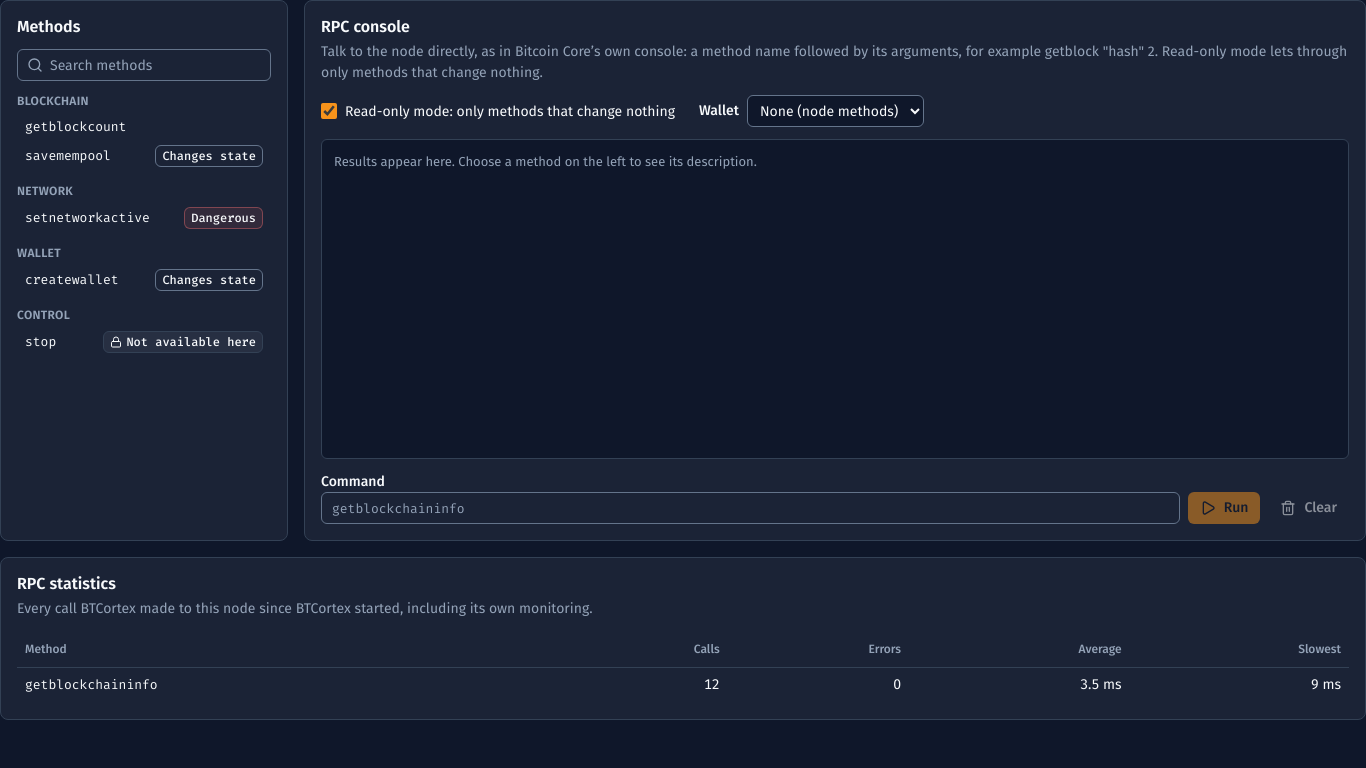
Test: RPC console › asks before dangerous methods and hides secret parameters
The image size is (1366, 768).
Expected: the element "Blockchain" is shown, left=17, top=93, right=271, bottom=170
Click the checkbox labelled "Read-only mode: only methods that change nothing" at (329, 110), box left=321, top=102, right=337, bottom=118
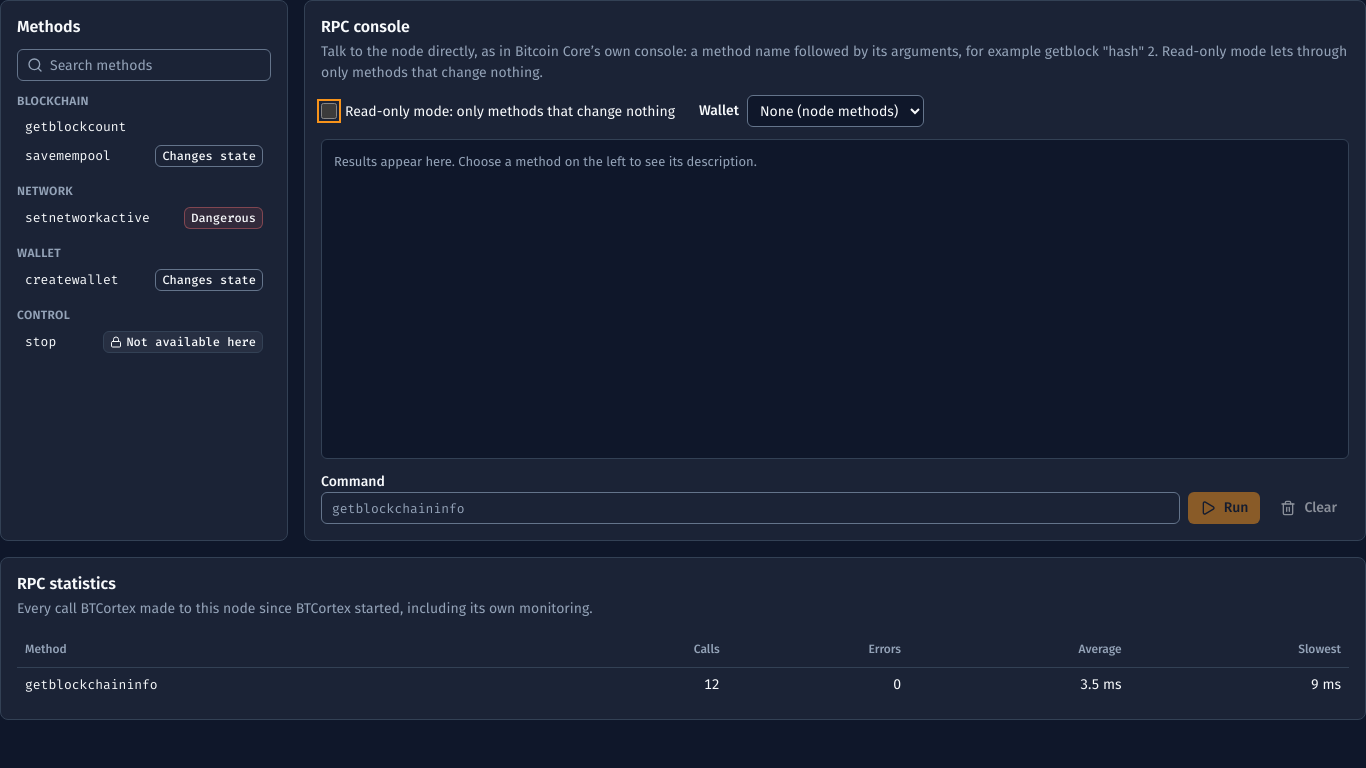
Type "setnetworkactive false" into the field labelled "Command" at (750, 508), box left=321, top=492, right=1180, bottom=524
Then press Enter
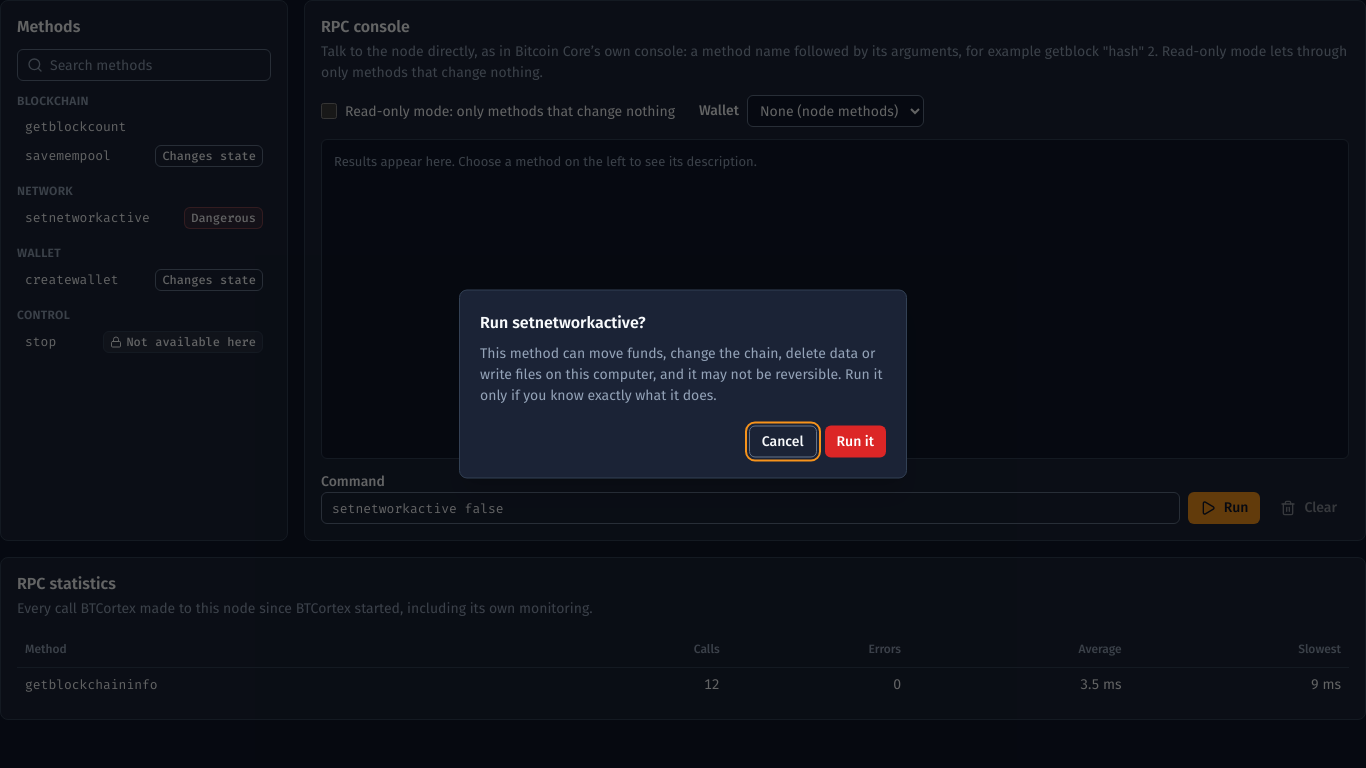
Click the button "Run it" at (855, 442), box left=824, top=426, right=886, bottom=458
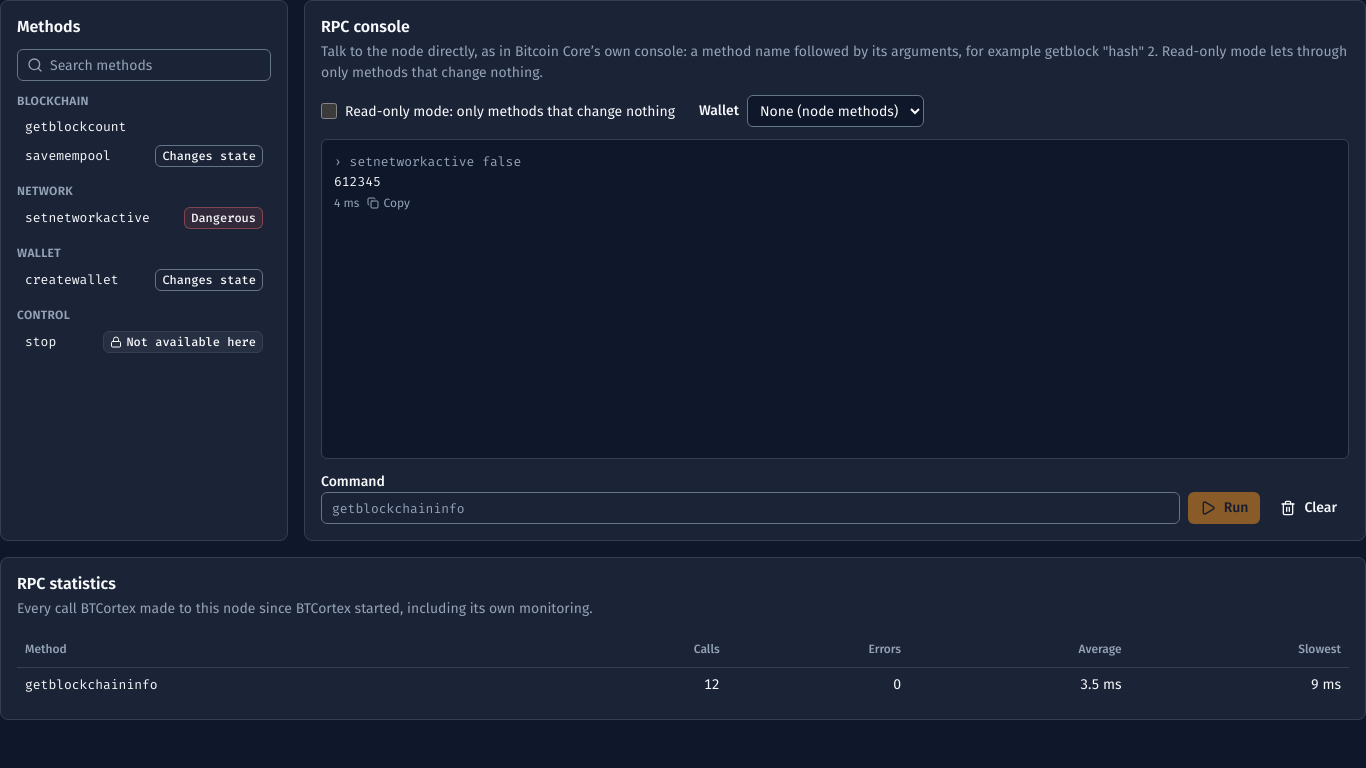
Type "createwallet \"watch-only\" true true" into the field labelled "Command" at (750, 508), box left=321, top=492, right=1180, bottom=524
Then press Enter
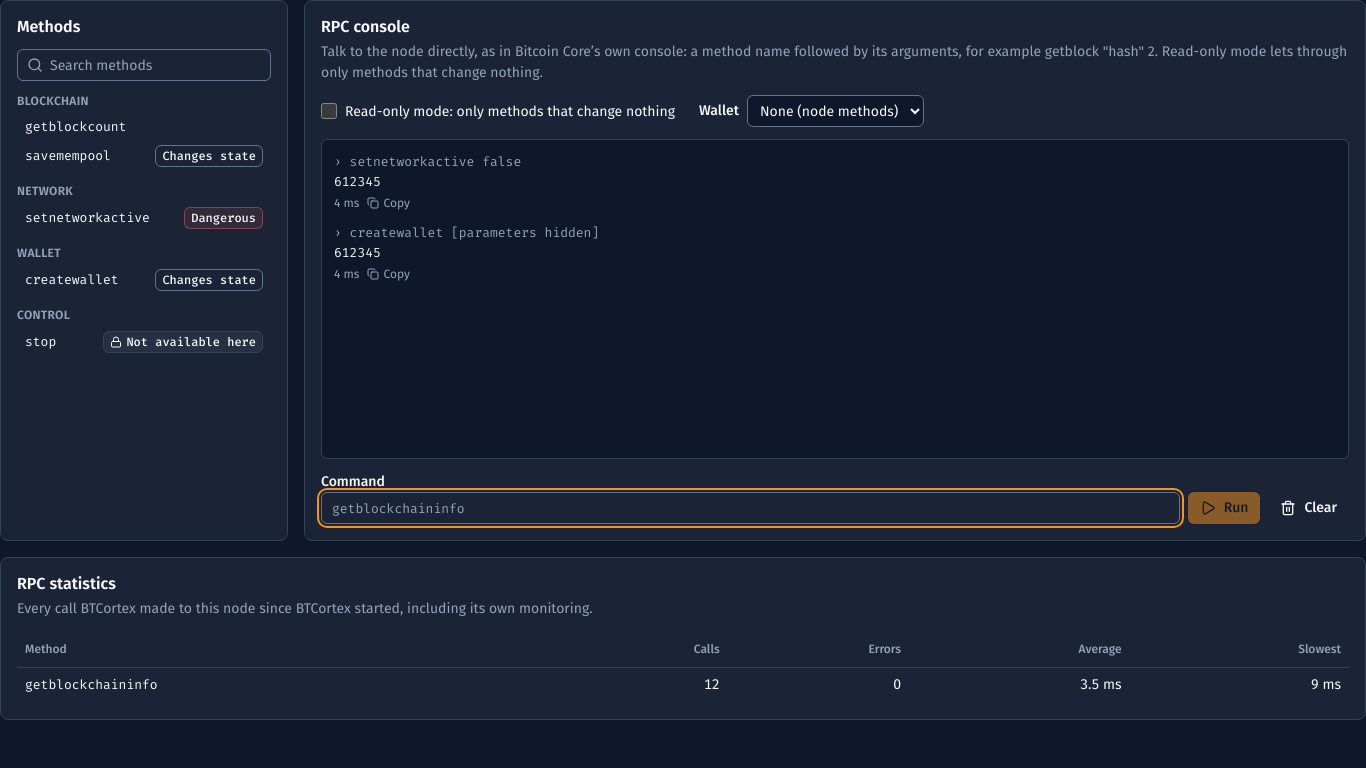
Expected: the text "› createwallet [parameters hidden]" is shown, left=334, top=224, right=599, bottom=241
